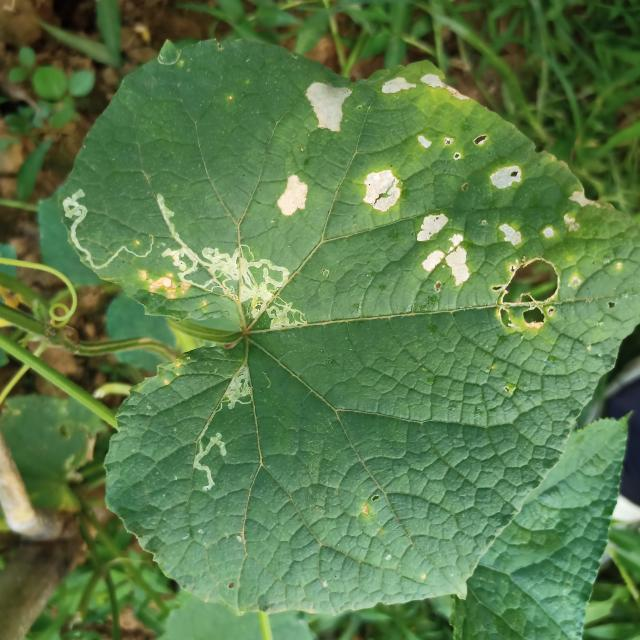disease_cucumber: (306, 75, 604, 333), (271, 170, 313, 226)
